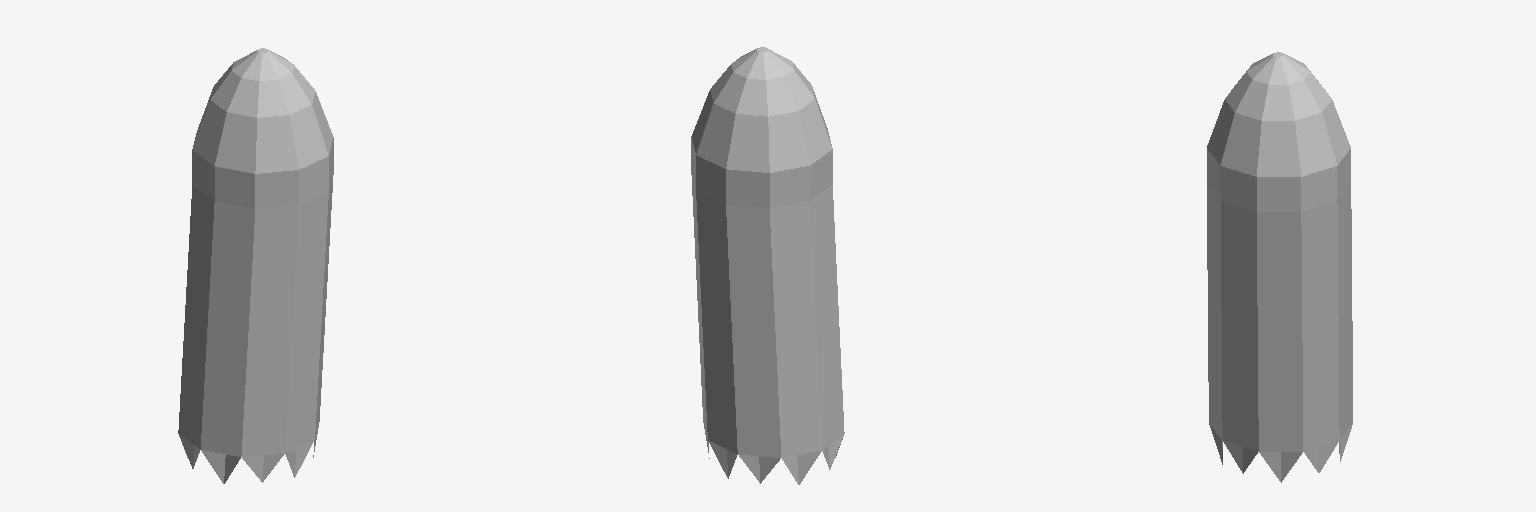
Rendered from Gost.obj.
3 views of the same model, side by side, from view 1: azimuth 30°, elevation 25°; view 2: azimuth 150°, elevation 25°; view 3: azimuth 270°, elevation 25° (orthographic).
Parts seen in each view (by area): view 1: Icosphere; view 2: Icosphere; view 3: Icosphere.
Boxes of the visible parts, x1=… form: Icosphere: x1=178, y1=48, x2=333, y2=483; Icosphere: x1=691, y1=47, x2=844, y2=484; Icosphere: x1=1207, y1=52, x2=1352, y2=482.
Bounding box in the file's own units: 0.7381 × 2.18 × 0.7111.